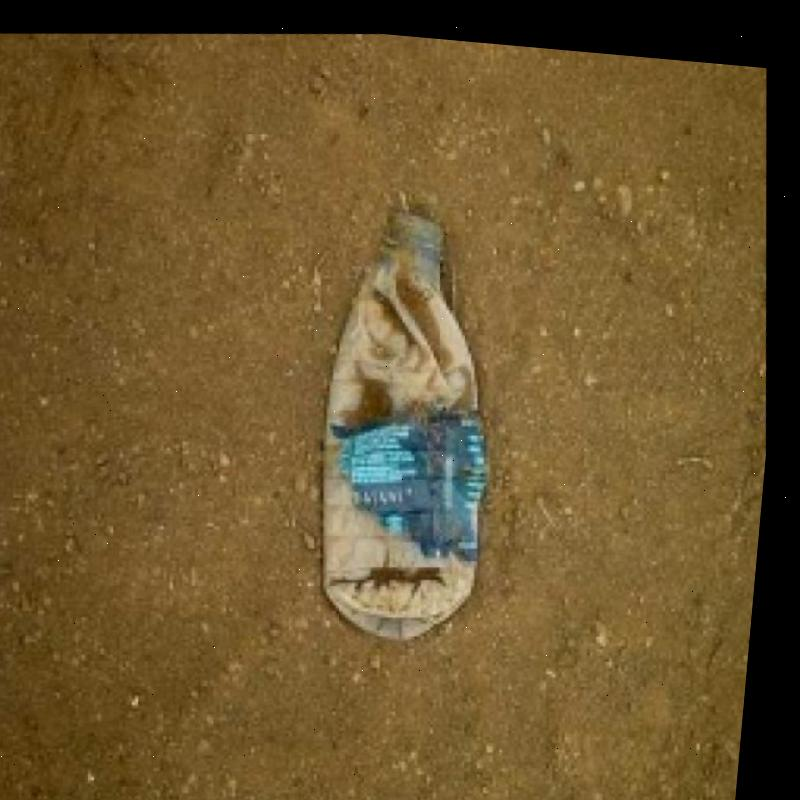botella: (298, 193, 527, 642)
